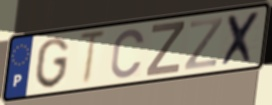C: (109, 27, 147, 80)
G: (33, 36, 71, 90)
T: (77, 29, 109, 88)
X: (219, 9, 264, 69)
Z: (144, 20, 187, 78), (182, 16, 225, 73)
